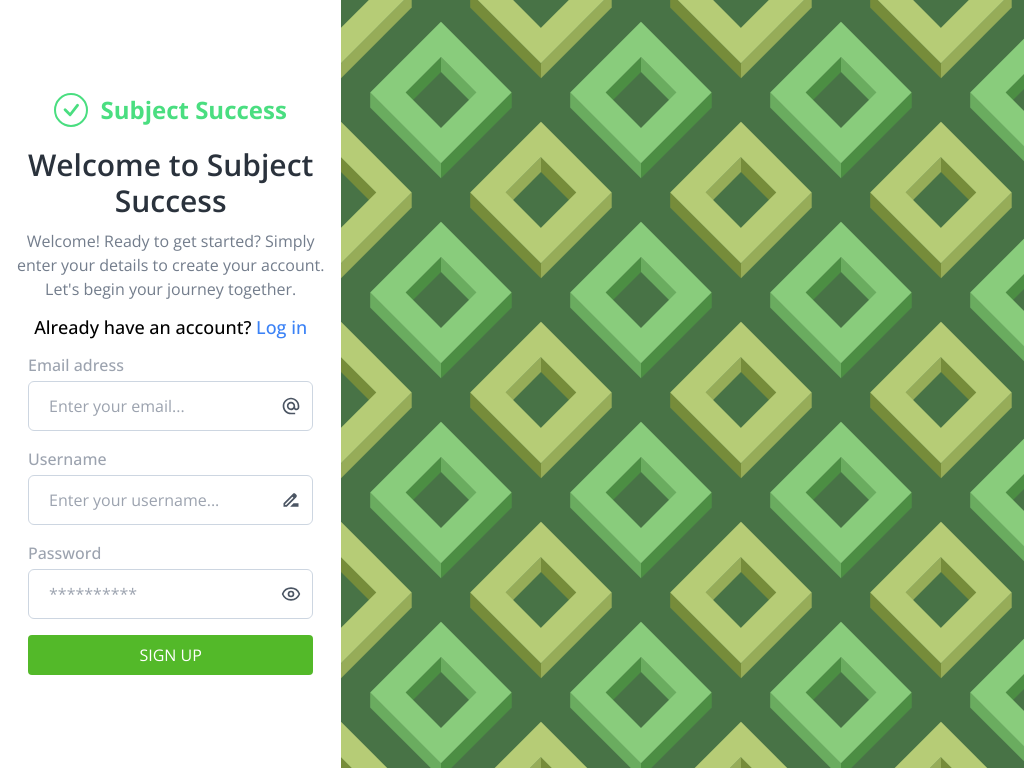
Sign Up Test › with invalid email › should show invalid email if email is not valid
Type "test.com" into the field labelled "Email adress" at x=171, y=406, box [28, 381, 313, 431]
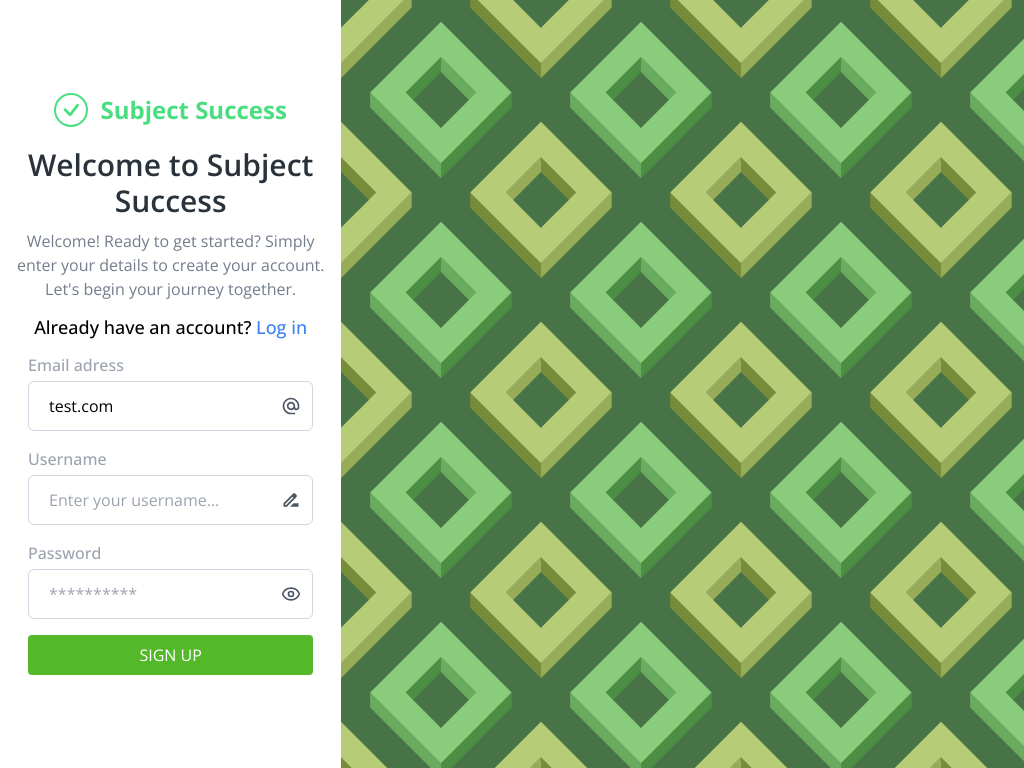
Click the password field labelled "Password" at x=171, y=594, box [28, 569, 313, 619]
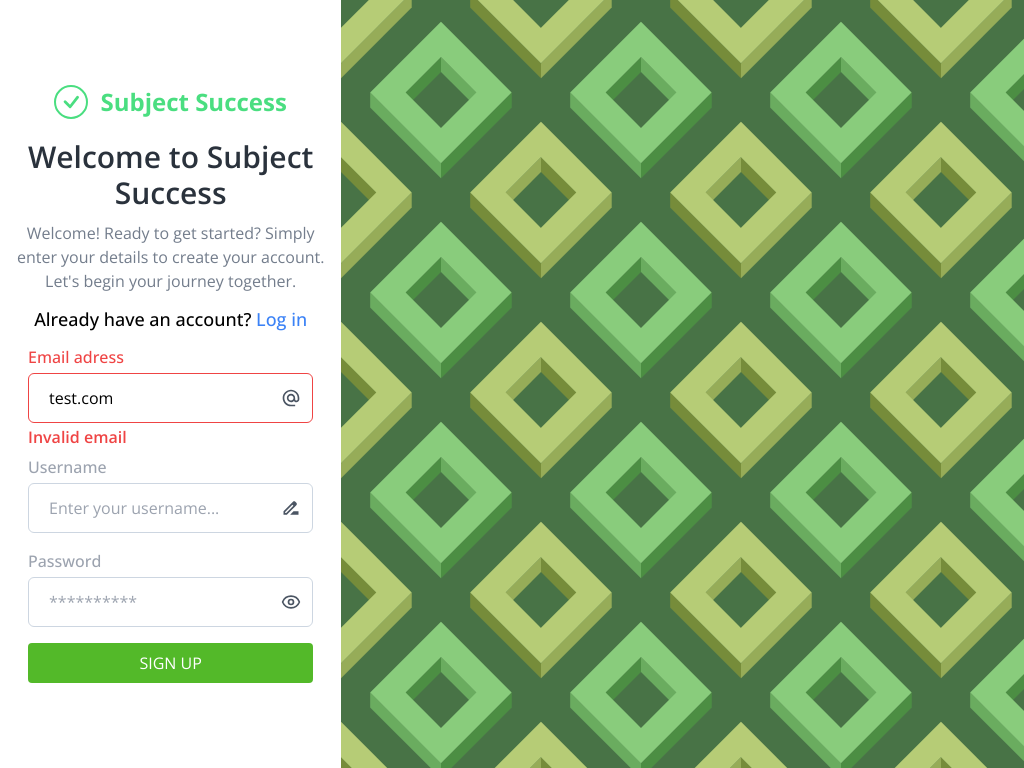
expect the text "Invalid email" is shown: met, box [28, 426, 127, 448]
